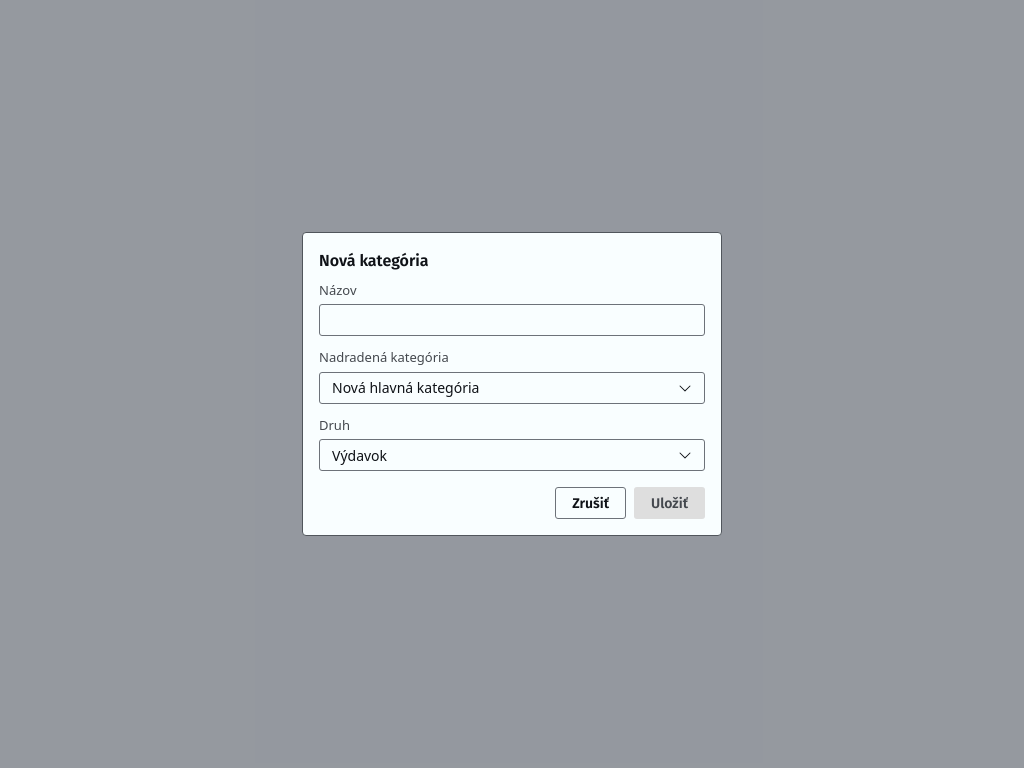
CategoryDialog › locks the kind field to the selected parent kind
Select "Faktúry" in the dropdown labelled "Nadradená kategória" at (512, 388), box [319, 372, 705, 404]
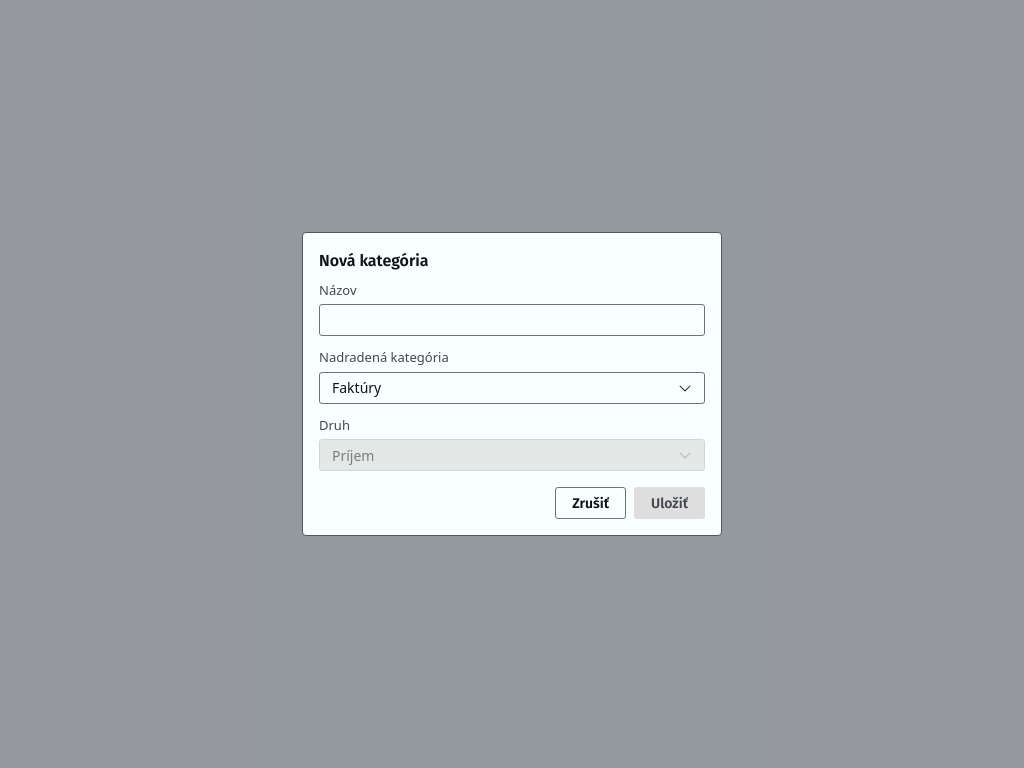
Expected: the dropdown named "Druh kategórie" shows "Príjem", [319, 439, 705, 471]
Expected: the dropdown named "Druh kategórie" is disabled, [319, 439, 705, 471]
